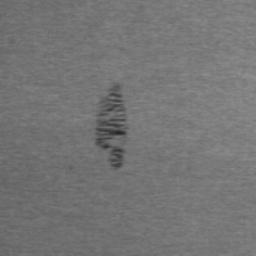Secondary rust skin: (95, 84, 129, 170)
